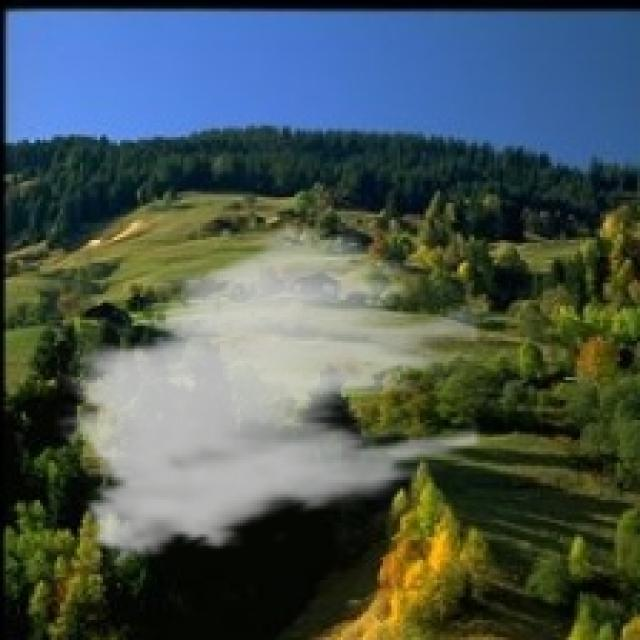smoke: (54, 215, 480, 574)
